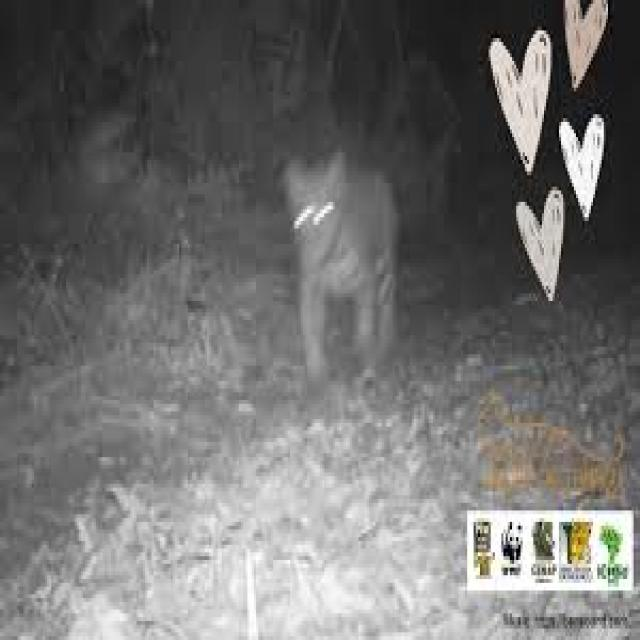Jaguar: (273, 144, 399, 366)
